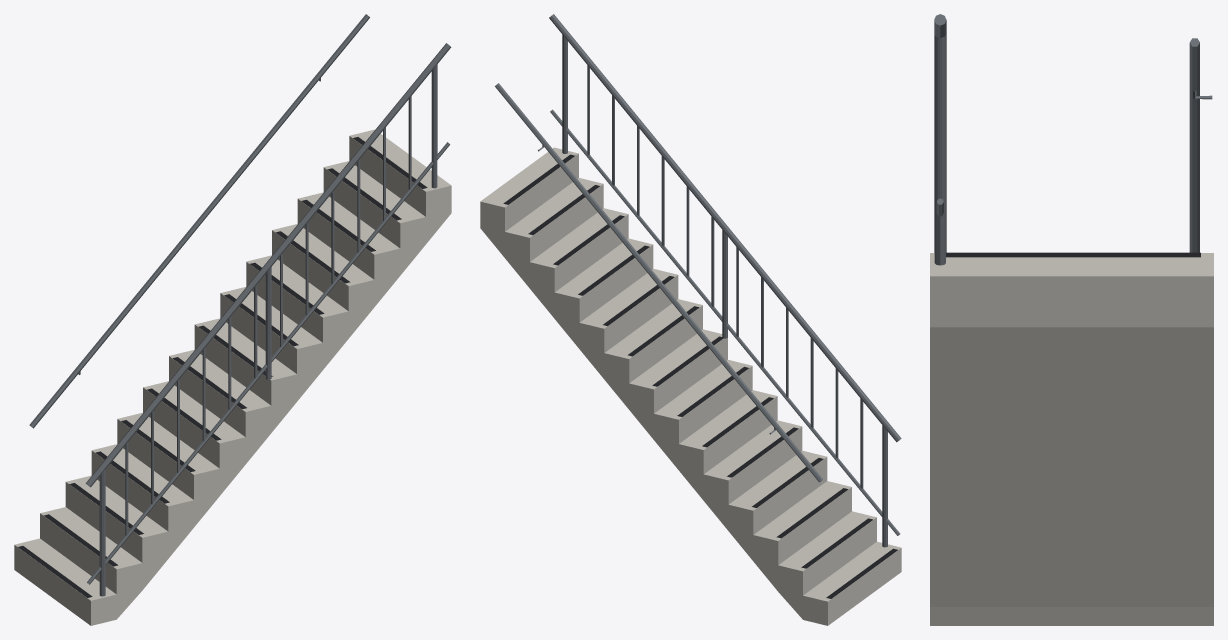
The model's file is SC_Bld_Villa_Stairs_Exterior.gltf.
3 renders of one model, left to right at view 1: azimuth 30°, elevation 25°; view 2: azimuth 150°, elevation 25°; view 3: azimuth 270°, elevation 25°, orthographic. The views are drawn at different scales.
Visible parts, largest first — view 1: SC_Bld_Villa_Stairs_Exterior; view 2: SC_Bld_Villa_Stairs_Exterior; view 3: SC_Bld_Villa_Stairs_Exterior.
Part boxes in pixels (x1,y1,x2,y2): SC_Bld_Villa_Stairs_Exterior: [14, 14, 451, 625]; SC_Bld_Villa_Stairs_Exterior: [480, 14, 901, 625]; SC_Bld_Villa_Stairs_Exterior: [930, 14, 1213, 625].
Size of the model in its own units: 3.03 by 3.92 by 1.1.
1 material, 1 textured.
